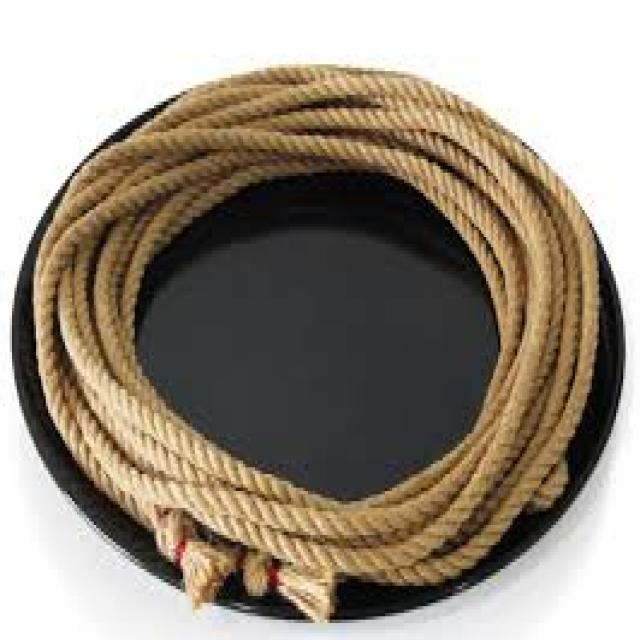rope: (15, 67, 624, 621)
